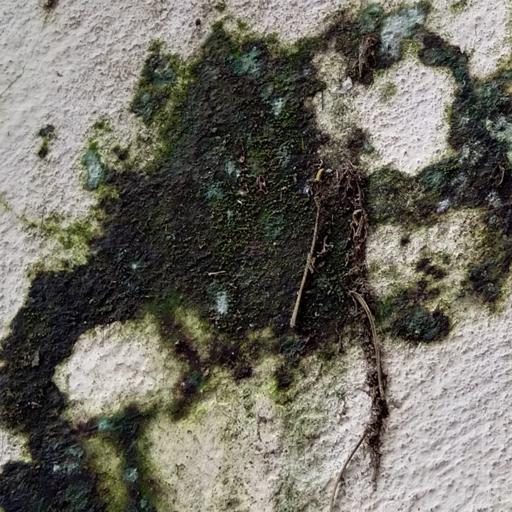algae: (26, 39, 512, 433)
